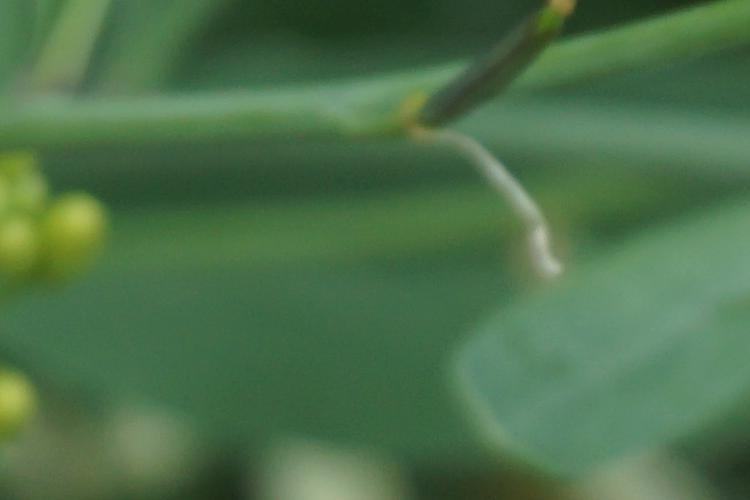pod: (413, 5, 597, 151)
